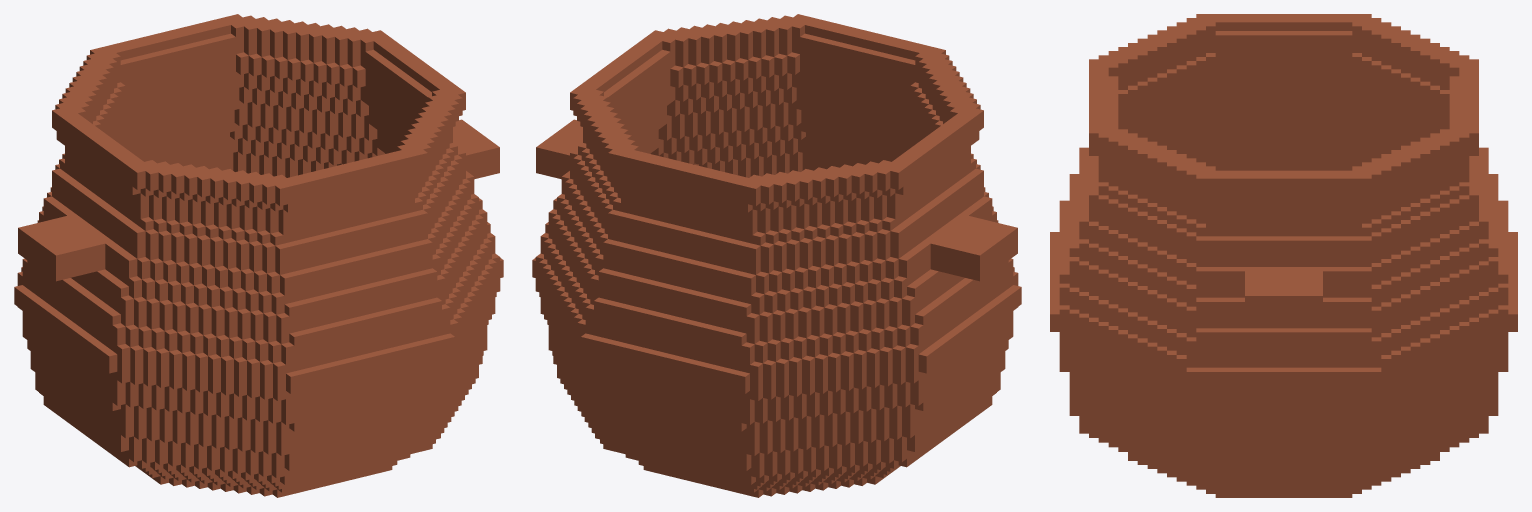
The model's file is clay_pot.glb.
3 views of the same model, side by side, from view 1: azimuth 30°, elevation 25°; view 2: azimuth 150°, elevation 25°; view 3: azimuth 270°, elevation 25° (orthographic). The views are drawn at different scales.
Visible parts, largest first — view 1: clay_pot:compound; view 2: clay_pot:compound; view 3: clay_pot:compound.
Boxes of the visible parts, x1,y1,x2,y2 form: clay_pot:compound: (14,14,503,497); clay_pot:compound: (532,14,1021,497); clay_pot:compound: (1050,14,1517,497).
Size of the model in its own units: 0.216 by 0.152 by 0.192.
